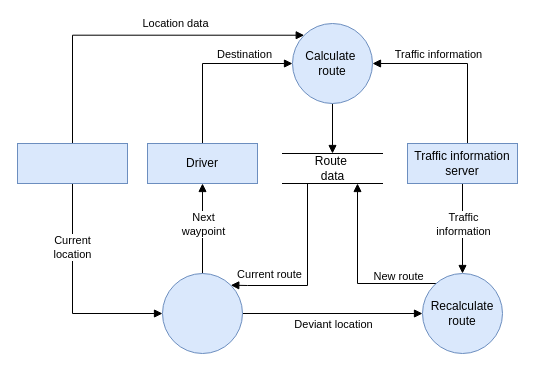
Image size: 535x371. Some labels were removed from this diagram. Here are the shapes that lost their labels. From the top down, the centre of each, then its label:
point (72, 163): GPS satelite system
point (202, 313): Determine next waypoint
